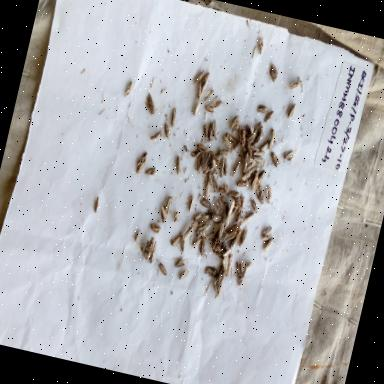pbw: (237, 260, 250, 288), (237, 227, 250, 251), (208, 118, 222, 140), (254, 34, 268, 56), (148, 239, 160, 264), (253, 186, 268, 206), (252, 124, 264, 148), (286, 99, 298, 123), (228, 228, 241, 250), (263, 184, 276, 206), (172, 154, 184, 177), (262, 235, 275, 256), (250, 170, 261, 194), (163, 194, 175, 216), (201, 152, 213, 174), (225, 252, 236, 276), (136, 150, 149, 170), (242, 121, 255, 141), (287, 78, 303, 94), (142, 102, 158, 118), (92, 193, 103, 216), (248, 198, 262, 216), (160, 122, 174, 140), (232, 260, 244, 281), (156, 260, 170, 278), (268, 150, 282, 168), (181, 224, 194, 243), (213, 272, 224, 294), (168, 107, 179, 129), (122, 80, 134, 100), (136, 157, 148, 177), (190, 98, 202, 118), (256, 168, 268, 188), (238, 128, 250, 148), (202, 86, 215, 104), (242, 210, 255, 228), (202, 180, 213, 201), (192, 69, 204, 88), (268, 127, 280, 146), (148, 128, 162, 144), (228, 219, 242, 235), (138, 245, 152, 261), (144, 166, 158, 182), (232, 156, 242, 178), (220, 158, 231, 178), (216, 220, 226, 242), (218, 158, 228, 180), (194, 80, 204, 102), (208, 158, 220, 176), (146, 92, 158, 110), (263, 108, 275, 126), (186, 193, 196, 214), (266, 69, 280, 84), (206, 122, 216, 143), (209, 231, 219, 252), (255, 102, 270, 116), (229, 114, 240, 133), (178, 267, 191, 283), (213, 198, 226, 214), (212, 249, 228, 262), (201, 122, 211, 142), (268, 132, 278, 152), (194, 154, 204, 174), (220, 254, 231, 272), (148, 222, 162, 236), (282, 150, 296, 164), (190, 220, 204, 234), (204, 266, 219, 279), (224, 229, 237, 244), (170, 232, 182, 248), (240, 168, 252, 184), (174, 256, 186, 272), (227, 199, 237, 218), (178, 237, 188, 256), (199, 150, 209, 169), (158, 205, 168, 224), (199, 196, 213, 209), (202, 103, 216, 116), (191, 210, 204, 224), (268, 62, 281, 76), (220, 180, 232, 195), (197, 240, 207, 258), (200, 70, 210, 88), (223, 213, 233, 231), (252, 120, 262, 138), (242, 152, 250, 174), (234, 208, 244, 225), (232, 197, 242, 214), (239, 195, 249, 212), (200, 229, 212, 243), (240, 259, 252, 273), (258, 139, 270, 153), (234, 178, 248, 190), (223, 132, 237, 144), (219, 194, 230, 209), (204, 172, 214, 188), (189, 148, 202, 160), (262, 224, 273, 238), (210, 213, 224, 224), (217, 147, 231, 158), (202, 164, 213, 178), (213, 242, 224, 256), (223, 136, 234, 150), (260, 232, 272, 244), (208, 206, 220, 218), (212, 98, 224, 110), (244, 162, 256, 174), (235, 124, 244, 140), (220, 247, 232, 259), (202, 211, 214, 223), (247, 124, 256, 140), (253, 148, 266, 159), (245, 144, 255, 158), (192, 237, 202, 251), (240, 146, 250, 160), (172, 210, 182, 224), (232, 140, 243, 152), (228, 188, 241, 198), (195, 142, 208, 152), (134, 228, 142, 244), (238, 258, 246, 274), (202, 222, 212, 234), (252, 155, 264, 165), (250, 164, 260, 176), (200, 82, 207, 98), (198, 222, 208, 232), (217, 186, 226, 195)
